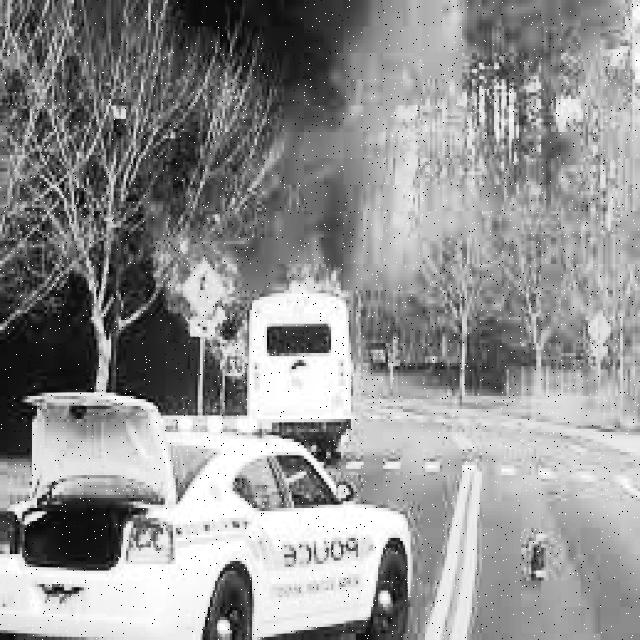api: (132, 200, 352, 384)
